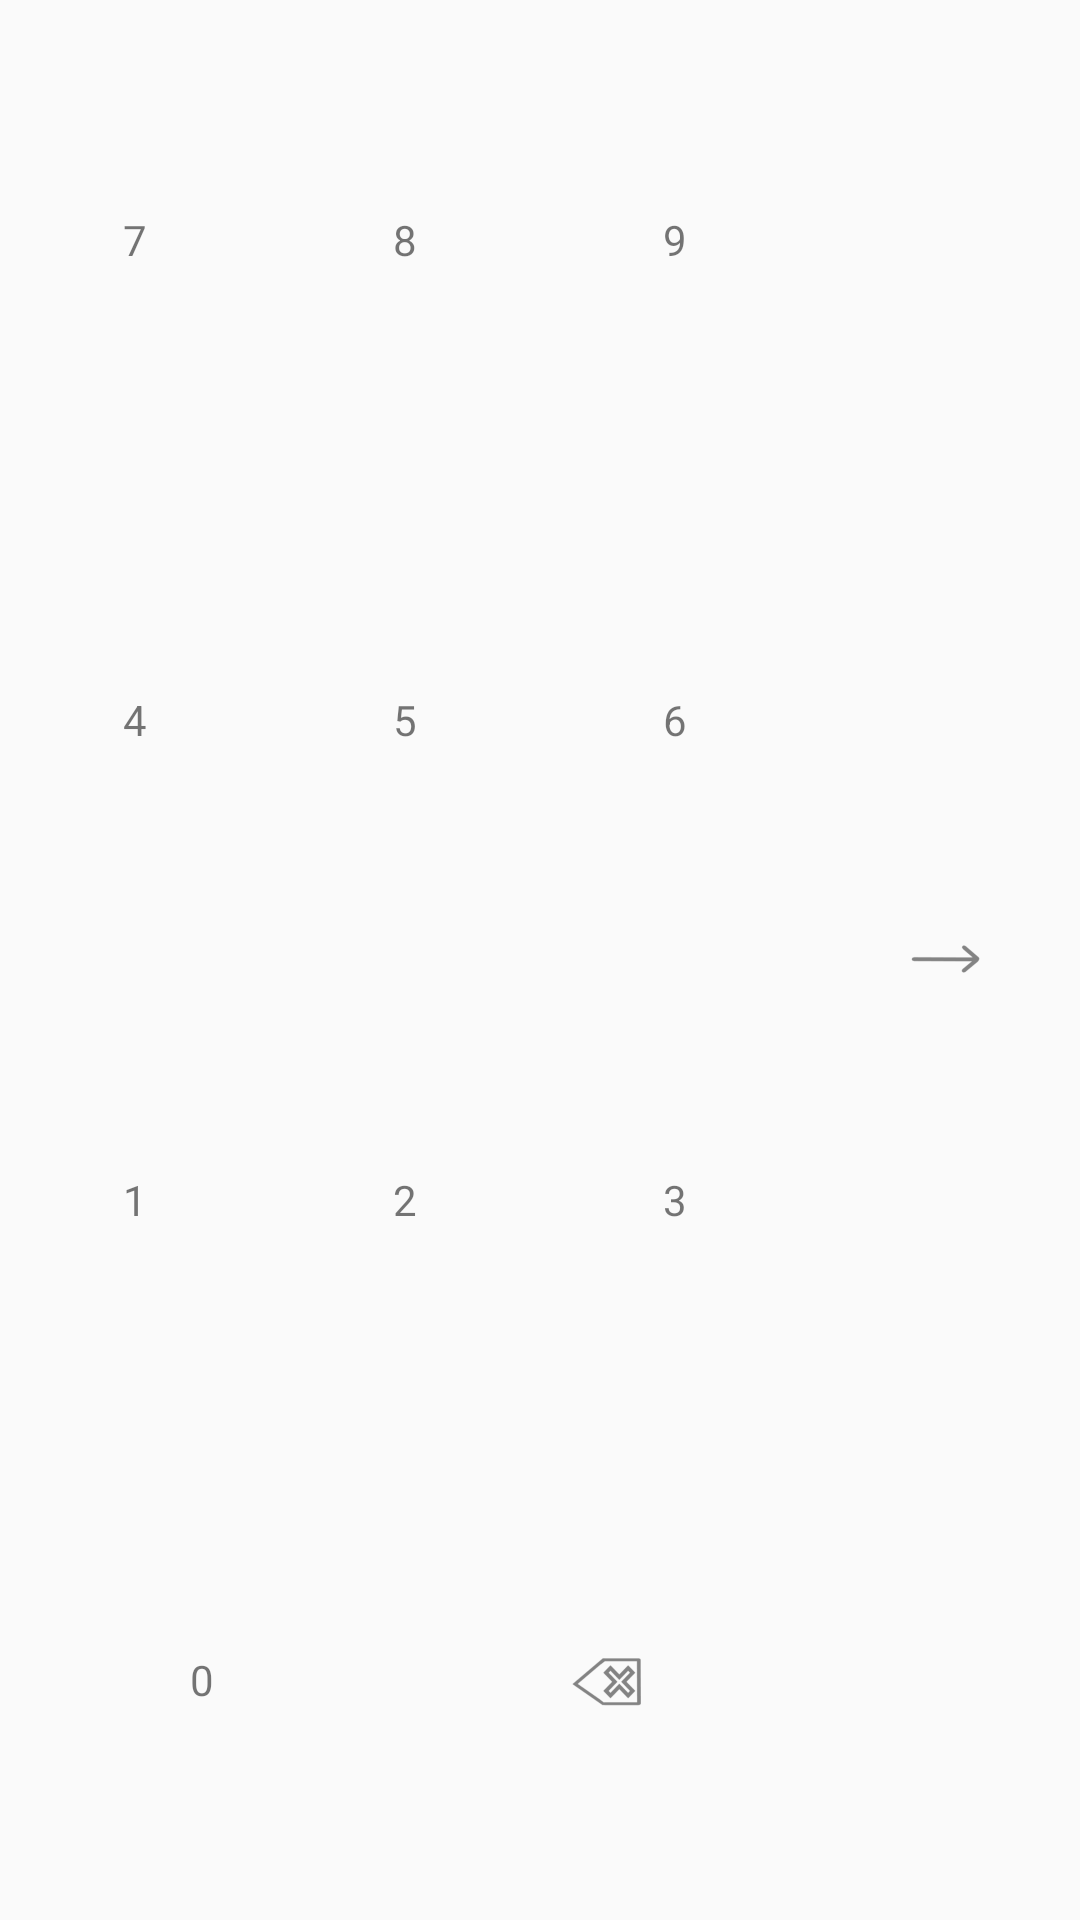

Icon click points for this 1080px×1920px phone screenshot, format point (x, y):
arrow right: point (946, 959)
backspace: point (607, 1681)
